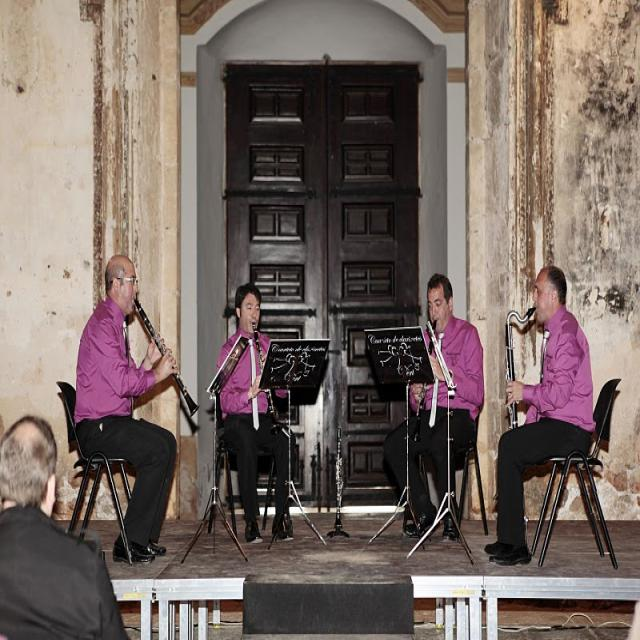clarinet: (132, 294, 201, 419), (409, 319, 438, 445), (252, 320, 282, 438)
saxophone: (490, 308, 540, 444)
